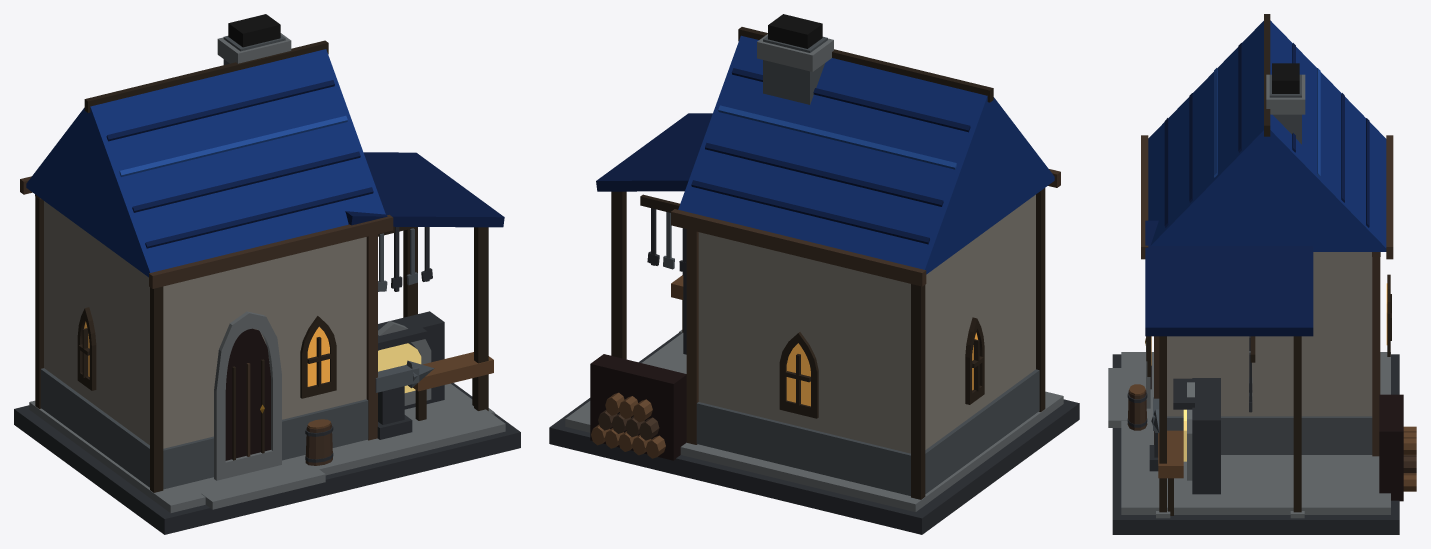
File: eastbrook_smithy.glb
The picture shows the model from 3 angles, left to right: view 1: azimuth 30°, elevation 25°; view 2: azimuth 150°, elevation 25°; view 3: azimuth 270°, elevation 25°; orthographic projection. The views are drawn at different scales.
Parts seen in each view (by area): view 1: EastbrookSmithy_TownOpaque, EastbrookSmithy_TownEmissive; view 2: EastbrookSmithy_TownOpaque, EastbrookSmithy_TownEmissive; view 3: EastbrookSmithy_TownOpaque.
Boxes of the visible parts, x1,y1,x2,y2 form: EastbrookSmithy_TownOpaque: (14, 14, 520, 534); EastbrookSmithy_TownEmissive: (84, 321, 421, 392); EastbrookSmithy_TownOpaque: (549, 14, 1079, 534); EastbrookSmithy_TownEmissive: (786, 332, 977, 406); EastbrookSmithy_TownOpaque: (1108, 14, 1416, 534).
Bounding box in the file's own units: 7 × 7.5 × 5.5.
